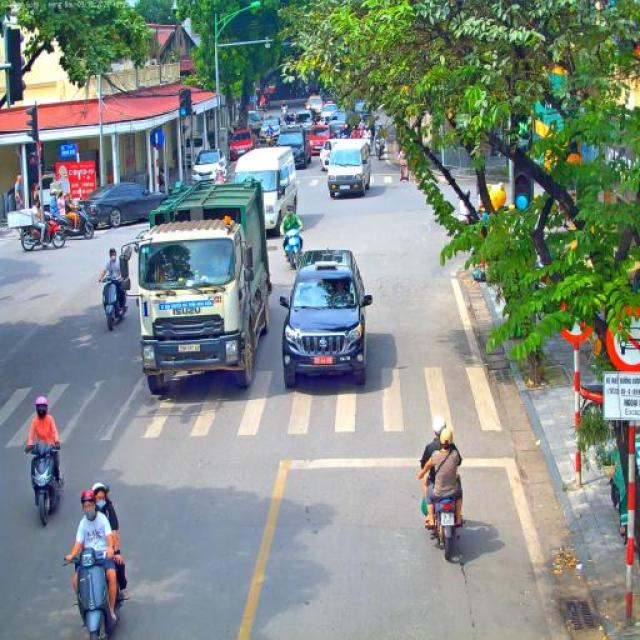car: (279, 248, 373, 388), (77, 182, 168, 228), (273, 127, 312, 171), (190, 148, 230, 187), (228, 128, 256, 162), (308, 124, 332, 154), (258, 116, 282, 146), (328, 111, 352, 139), (292, 111, 314, 132), (318, 103, 338, 126), (319, 139, 333, 170), (306, 94, 324, 117), (353, 102, 369, 122)
motorcycle: (63, 545, 124, 640), (422, 471, 466, 562), (24, 438, 65, 526), (19, 209, 66, 251), (44, 202, 94, 240), (100, 272, 130, 332), (282, 227, 303, 269), (376, 137, 388, 161), (266, 132, 276, 148), (282, 110, 289, 126), (291, 115, 297, 125)
truck: (120, 174, 274, 393), (233, 144, 299, 238), (326, 138, 372, 198), (247, 110, 263, 140)
